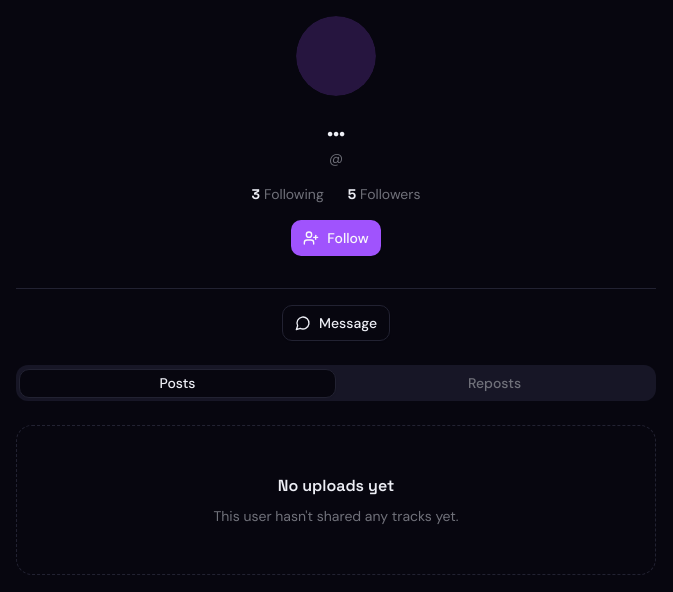
Test: Profile › switches to the reposts tab and lists the user's reposts
Check: the text "No uploads yet" is shown, box top-left (278, 474), bottom-right (394, 498)
Click the tab "Reposts": x=494, y=383 top-left (336, 368), bottom-right (653, 398)
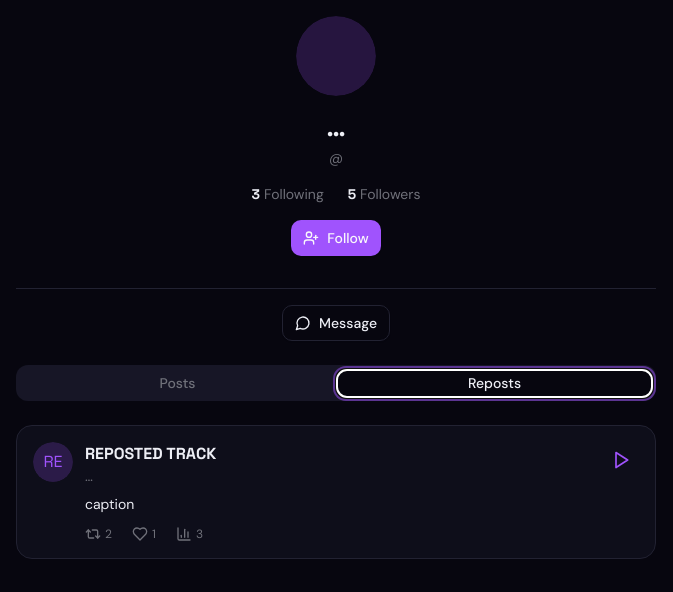
Check: the heading "Reposted Track" is shown, box top-left (85, 442), bottom-right (216, 466)
